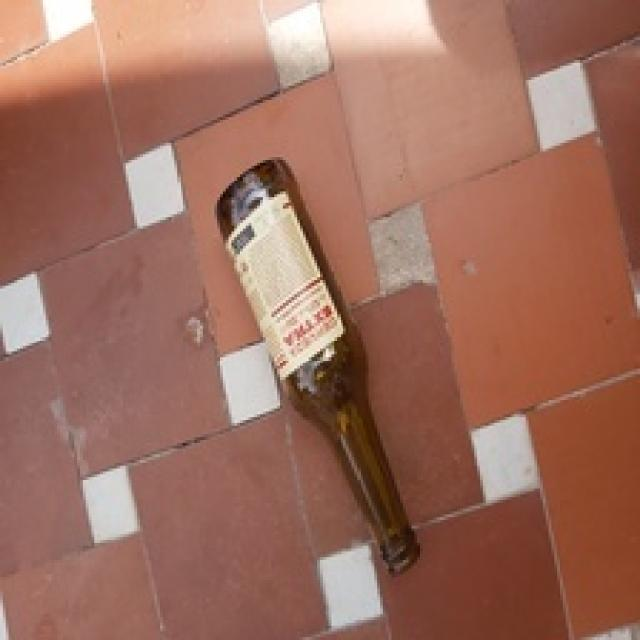Glass: (213, 160, 422, 579)
